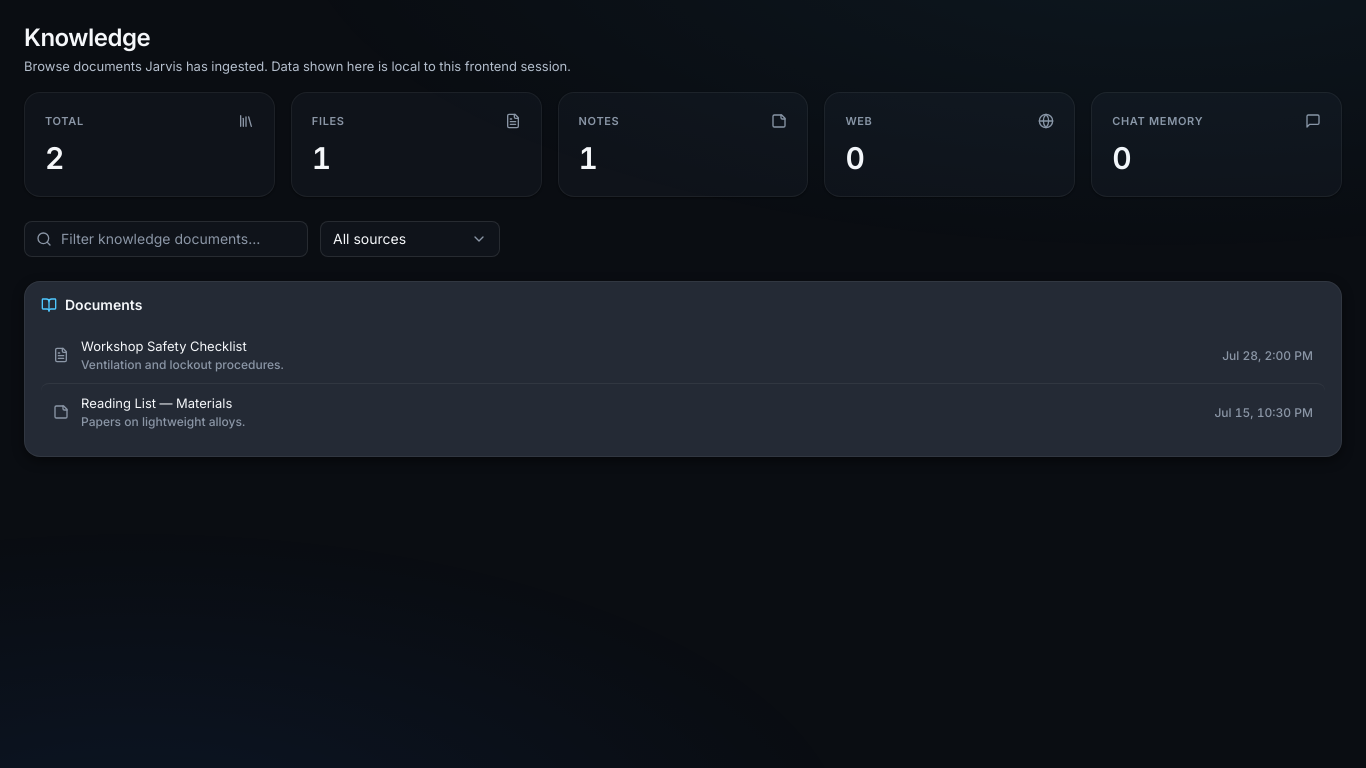
Scenario: KnowledgePage list + detail › filters the list by the local text filter (title/snippet/tags), without any page reload
Expected: the button with test id "knowledge-item-know-a" is shown, [41,328,1325,383]
Type "materials" into the search field with test id "knowledge-filter-input" at (166, 239), box [24,221,308,257]
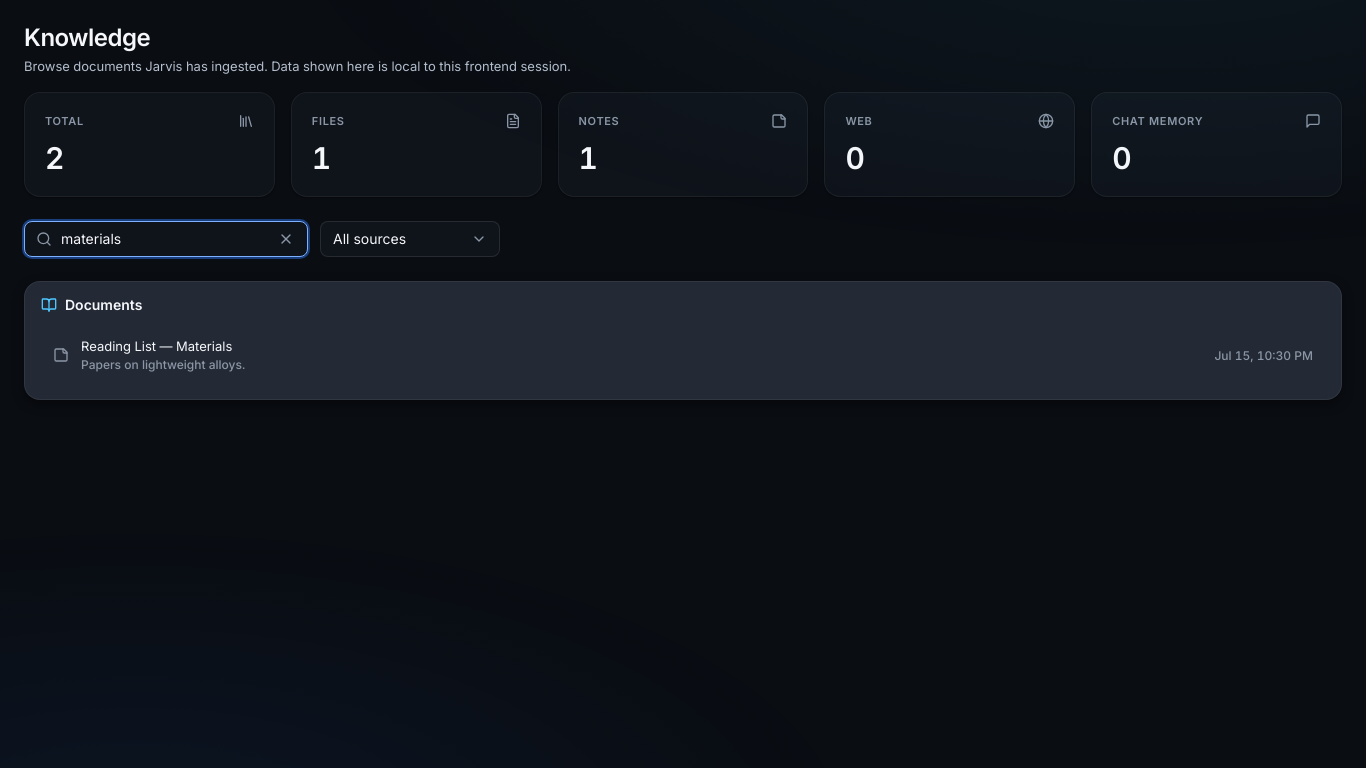
Expected: the button with test id "knowledge-item-know-b" is shown, [41,328,1325,383]
Result: the button with test id "knowledge-item-know-a" is gone
